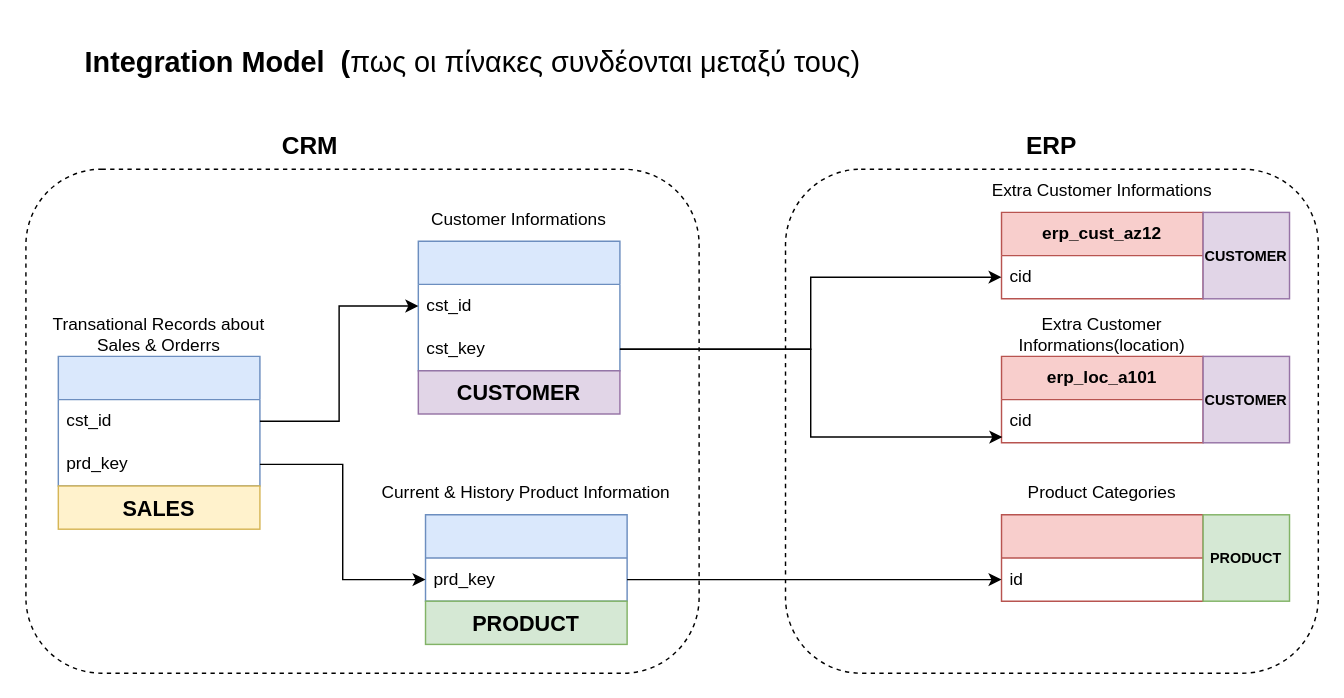
Image size: 1344x698. Some labels were removed from this diagram. Each missing label, with the box of its shape:
crm_cust_info: (417, 240, 620, 371)
crm_prd_info: (424, 513, 627, 601)
crm_sales_details: (57, 355, 260, 486)
erp_px_cat_g1v2: (1000, 513, 1203, 601)
